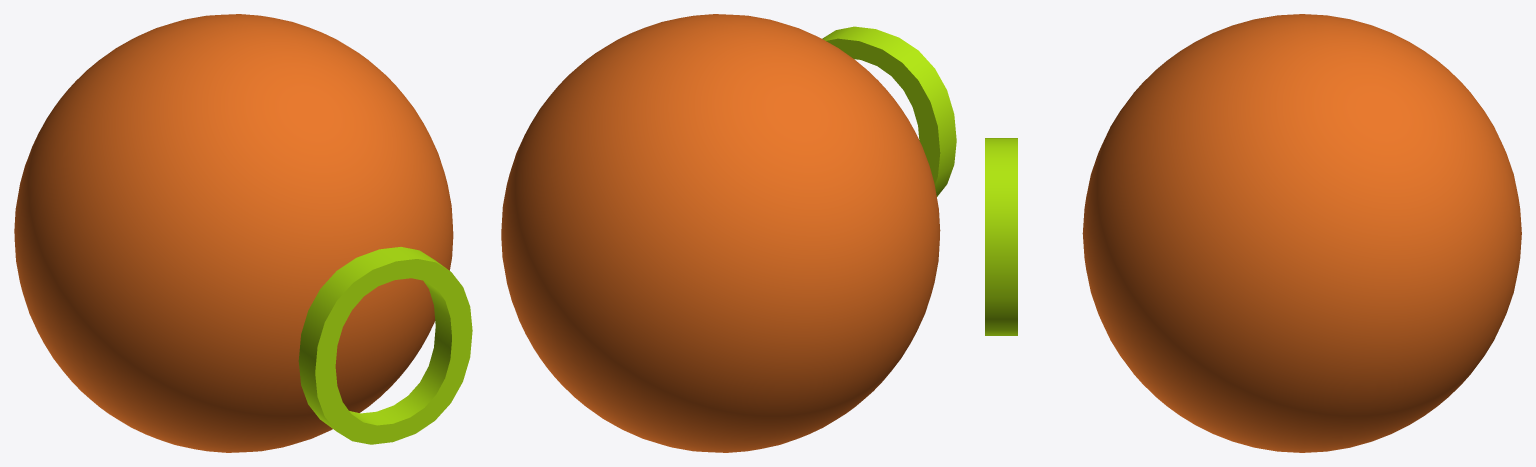
The model's file is oxygen_so.glb.
3 views of the same model, side by side, from view 1: azimuth 30°, elevation 25°; view 2: azimuth 150°, elevation 25°; view 3: azimuth 270°, elevation 25° (orthographic).
Visible parts, largest first — view 1: mesh_id27, mesh_id34; view 2: mesh_id27, mesh_id34; view 3: mesh_id27, mesh_id34.
Boxes of the visible parts, bbox=[...] form: mesh_id27: bbox=[14, 14, 453, 452]; mesh_id34: bbox=[298, 247, 472, 444]; mesh_id27: bbox=[501, 14, 940, 452]; mesh_id34: bbox=[822, 26, 956, 196]; mesh_id27: bbox=[1082, 14, 1521, 452]; mesh_id34: bbox=[985, 138, 1017, 335].
Bounding box in the file's own units: 0.2 × 0.2 × 0.2445.
Materials: 2 (2 with a texture image).
